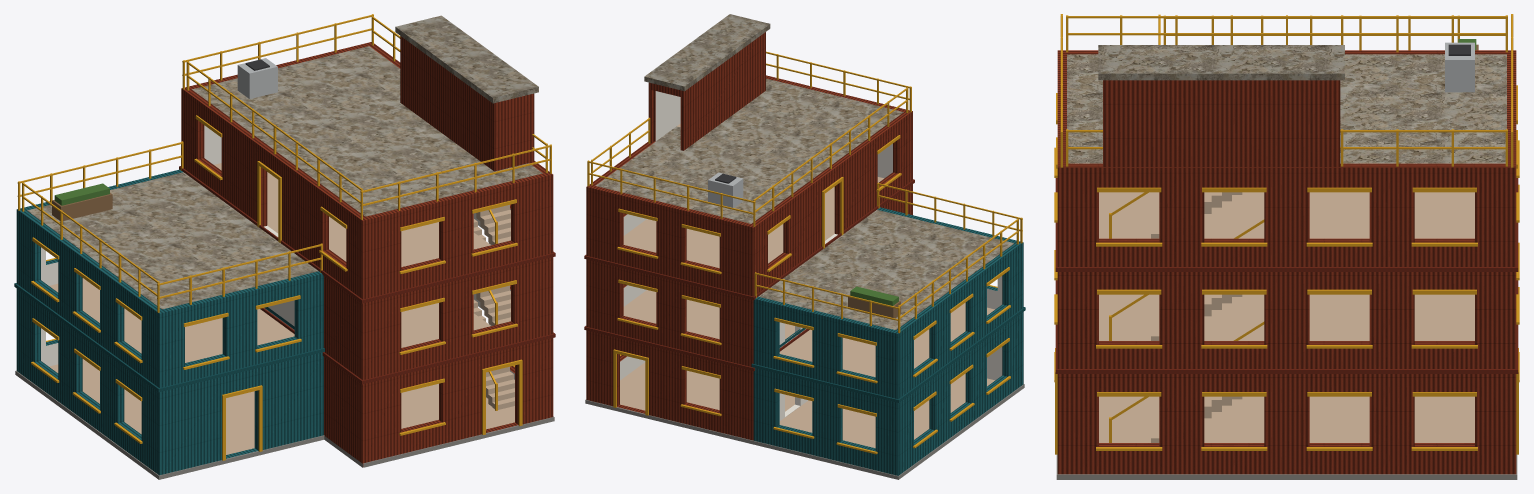
Rendered from mh-container-flats.towns-v2.lod0.glb.
The picture shows the model from 3 angles, left to right: view 1: azimuth 30°, elevation 25°; view 2: azimuth 150°, elevation 25°; view 3: azimuth 270°, elevation 25°; orthographic projection. The views are drawn at different scales.
Parts seen in each view (by area): view 1: mh-container-flats; view 2: mh-container-flats; view 3: mh-container-flats.
Part boxes in pixels (x1,y1,x2,y2): mh-container-flats: (14, 14, 555, 479); mh-container-flats: (584, 14, 1025, 479); mh-container-flats: (1054, 14, 1519, 479).
Bounding box in the file's own units: 13.98 × 11.97 × 12.38.
Materials: 5 (2 with a texture image).
